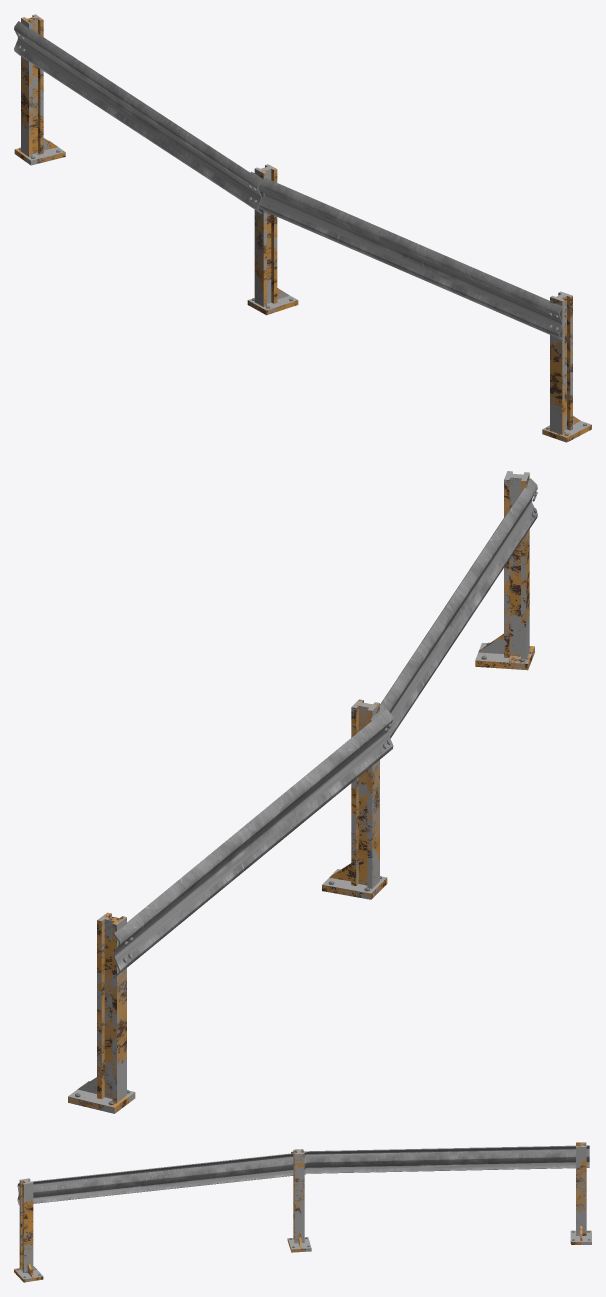
Rendered from road_fence0.obj.
The picture shows the model from 3 angles, top to bottom: view 1: azimuth 30°, elevation 25°; view 2: azimuth 150°, elevation 25°; view 3: azimuth 270°, elevation 25°; orthographic projection. The views are drawn at different scales.
Visible parts, largest first — view 1: Bridge_safety_fence_meshId0_name; view 2: Bridge_safety_fence_meshId0_name; view 3: Bridge_safety_fence_meshId0_name.
Part boxes in pixels (box(x1,y1,x2,y2)): Bridge_safety_fence_meshId0_name: box(14, 14, 591, 442); Bridge_safety_fence_meshId0_name: box(68, 471, 537, 1113); Bridge_safety_fence_meshId0_name: box(14, 1142, 591, 1282).
Size of the model in its own units: 0.7387 by 0.6341 by 3.6.
